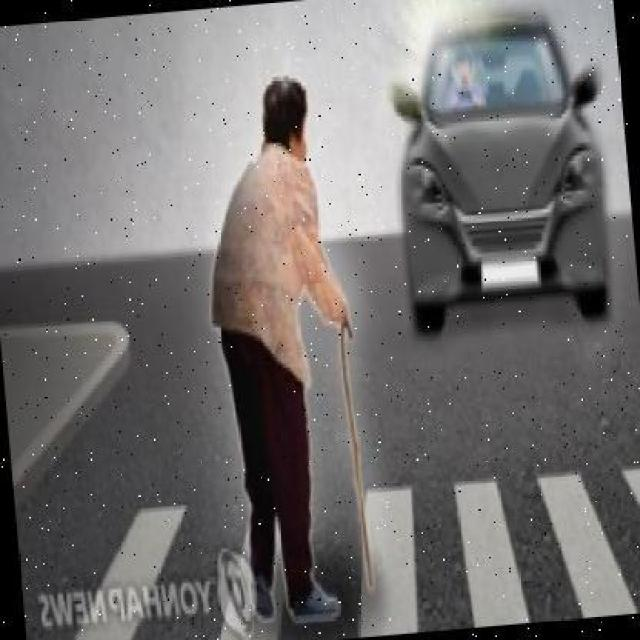Person: (188, 72, 375, 626)
